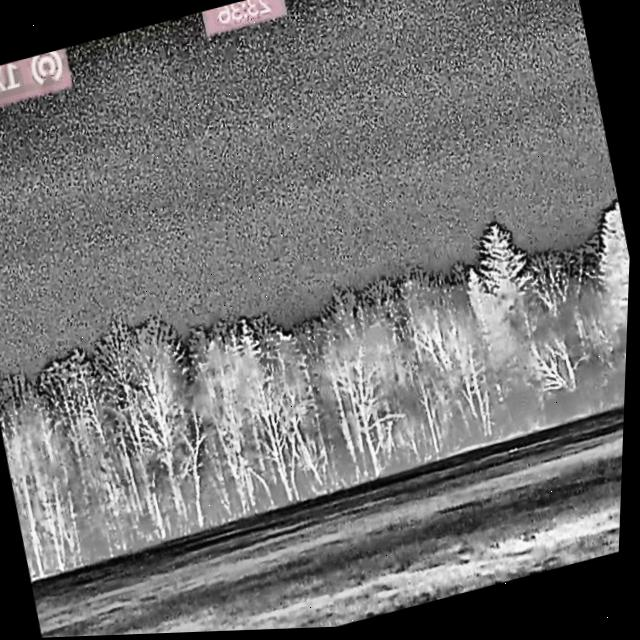drone: (493, 240, 514, 257)
